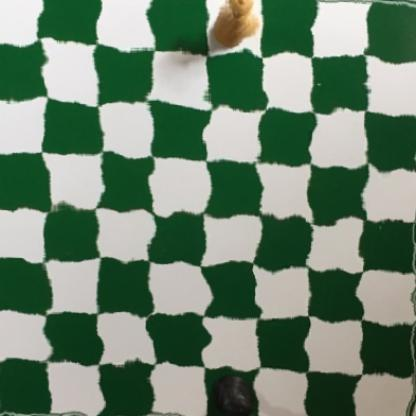black-queen: (209, 370, 254, 416)
white-queen: (211, 0, 258, 55)
